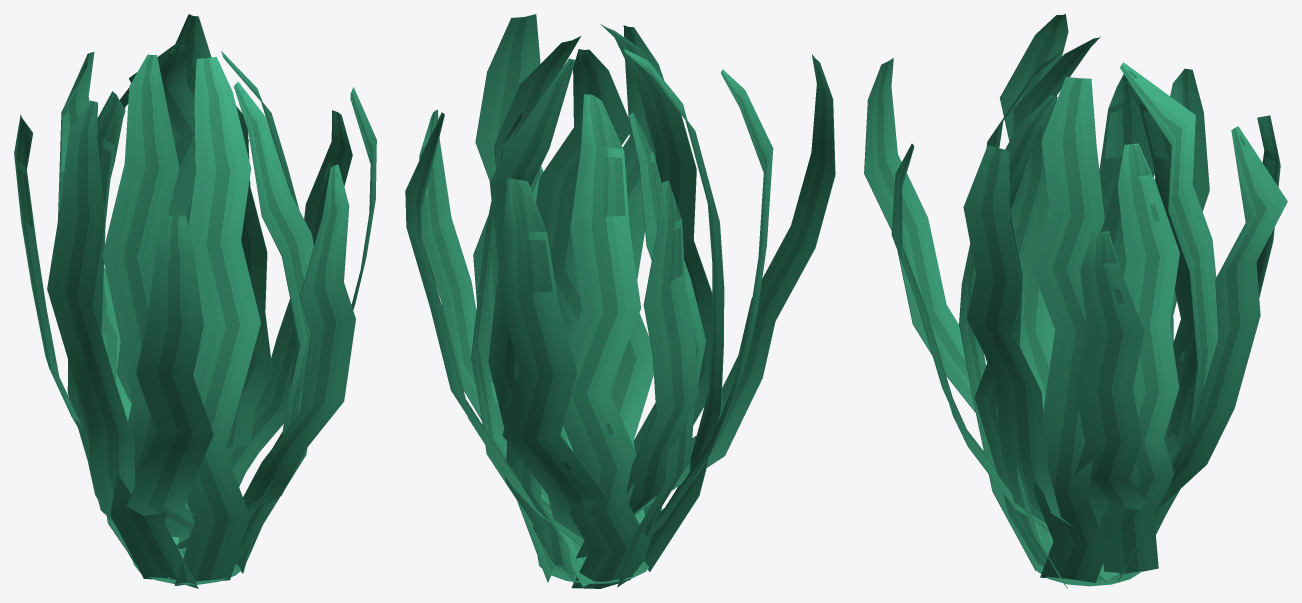
File: Seaweed.fbx
3 views of the same model, side by side, from view 1: azimuth 30°, elevation 25°; view 2: azimuth 150°, elevation 25°; view 3: azimuth 270°, elevation 25° (orthographic). The views are drawn at different scales.
Parts seen in each view (by area): view 1: Seaweed; view 2: Seaweed; view 3: Seaweed.
Part boxes in pixels (bbox=[...]): Seaweed: bbox=[14, 14, 376, 588]; Seaweed: bbox=[405, 14, 835, 588]; Seaweed: bbox=[864, 14, 1287, 588].
Bounding box in the file's own units: 6.27 × 10.12 × 7.44.
1 material, 1 textured.
